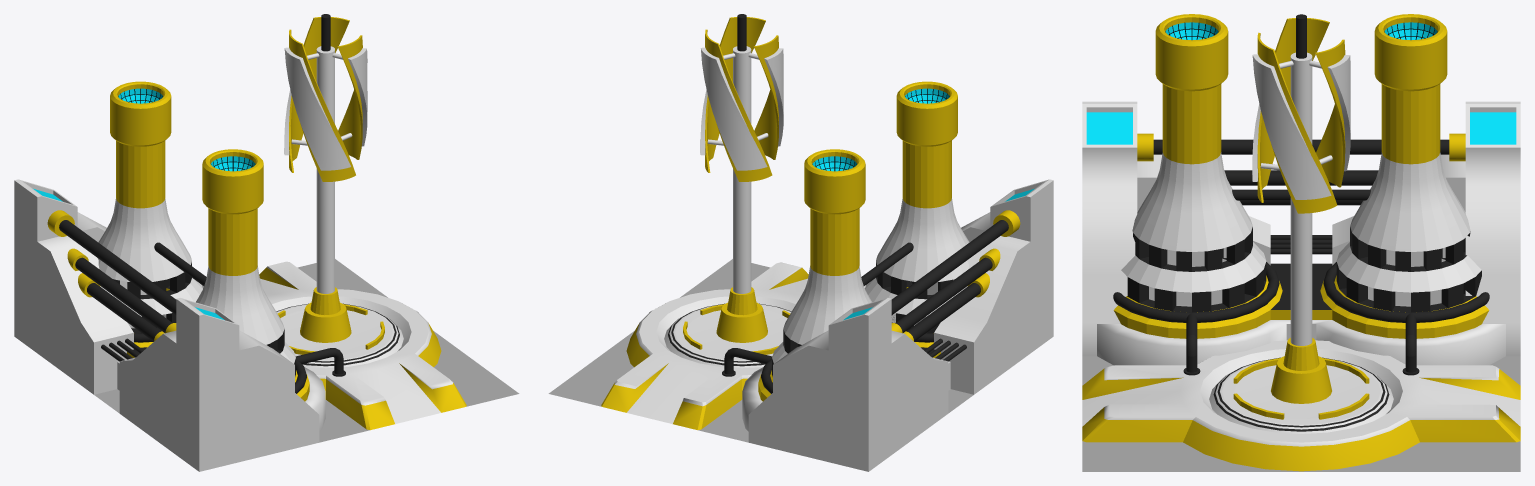
The model's file is SM_Wind_Powerstation.fbx.
3 views of the same model, side by side, from view 1: azimuth 30°, elevation 25°; view 2: azimuth 150°, elevation 25°; view 3: azimuth 270°, elevation 25° (orthographic). The views are drawn at different scales.
Parts seen in each view (by area): view 1: SM_Wind_Powerstation; view 2: SM_Wind_Powerstation; view 3: SM_Wind_Powerstation.
Part boxes in pixels (x1=…): SM_Wind_Powerstation: x1=14, y1=14, x2=519, y2=471; SM_Wind_Powerstation: x1=548, y1=14, x2=1053, y2=471; SM_Wind_Powerstation: x1=1082, y1=14, x2=1520, y2=471.
Size of the model in its own units: 800 by 800 by 800.
